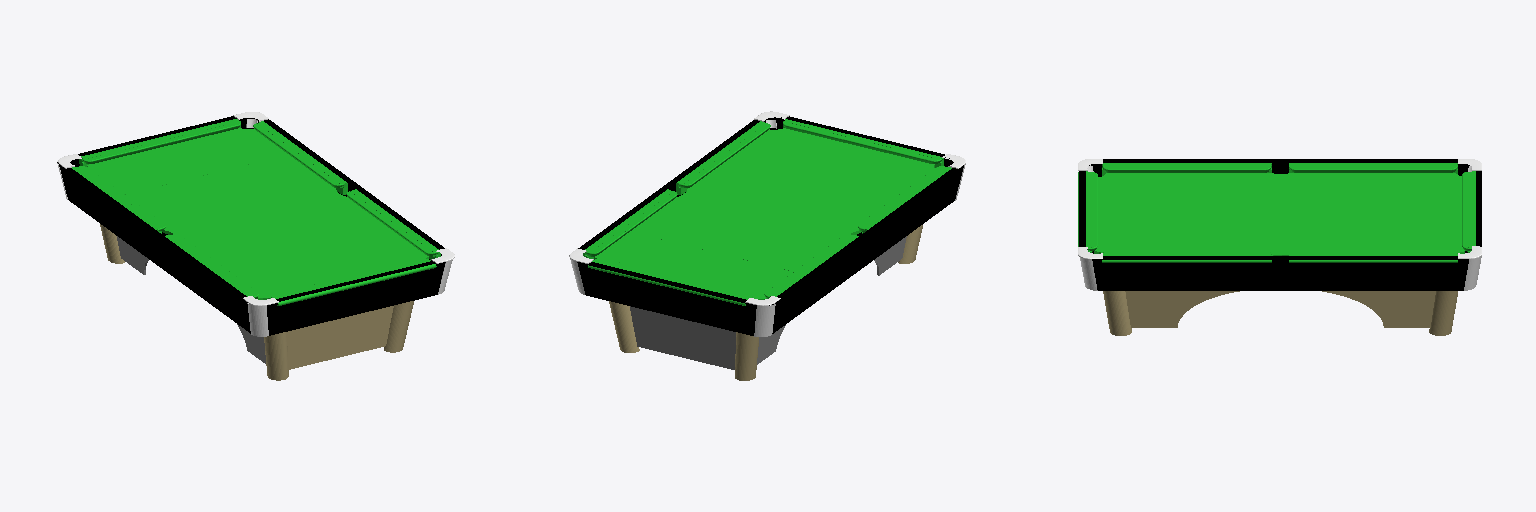
The model's file is pool-table.obj.
3 views of the same model, side by side, from view 1: azimuth 30°, elevation 25°; view 2: azimuth 150°, elevation 25°; view 3: azimuth 270°, elevation 25° (orthographic).
Visible parts, largest first — view 1: Doek, Zijkanten, Sier_achter, Poten, Sier_rechts, Put_styles, Put_omheining; view 2: Doek, Zijkanten, Sier_voor, Poten, Sier_rechts, Put_styles, Put_omheining; view 3: Doek, Zijkanten, Sier_links, Poten, Put_styles, Put_omheining.
Boxes of the visible parts, x1=… form: Doek: x1=72, y1=119, x2=440, y2=305; Zijkanten: x1=57, y1=116, x2=445, y2=335; Sier_achter: x1=287, y1=306, x2=393, y2=369; Poten: x1=100, y1=224, x2=413, y2=380; Sier_rechts: x1=117, y1=236, x2=265, y2=363; Put_styles: x1=57, y1=119, x2=452, y2=336; Put_omheining: x1=58, y1=112, x2=454, y2=263; Doek: x1=583, y1=119, x2=951, y2=305; Zijkanten: x1=577, y1=116, x2=963, y2=335; Sier_voor: x1=630, y1=306, x2=735, y2=369; Poten: x1=609, y1=225, x2=922, y2=380; Sier_rechts: x1=757, y1=236, x2=906, y2=364; Put_styles: x1=570, y1=120, x2=965, y2=336; Put_omheining: x1=569, y1=111, x2=789, y2=305; Doek: x1=1078, y1=163, x2=1475, y2=262; Zijkanten: x1=1079, y1=159, x2=1481, y2=290; Sier_links: x1=1125, y1=291, x2=1435, y2=327; Poten: x1=1103, y1=291, x2=1457, y2=335; Put_styles: x1=1080, y1=165, x2=1481, y2=290; Put_omheining: x1=1078, y1=159, x2=1481, y2=258.
Bounding box in the file's own units: 8.82 × 3.93 × 15.08.